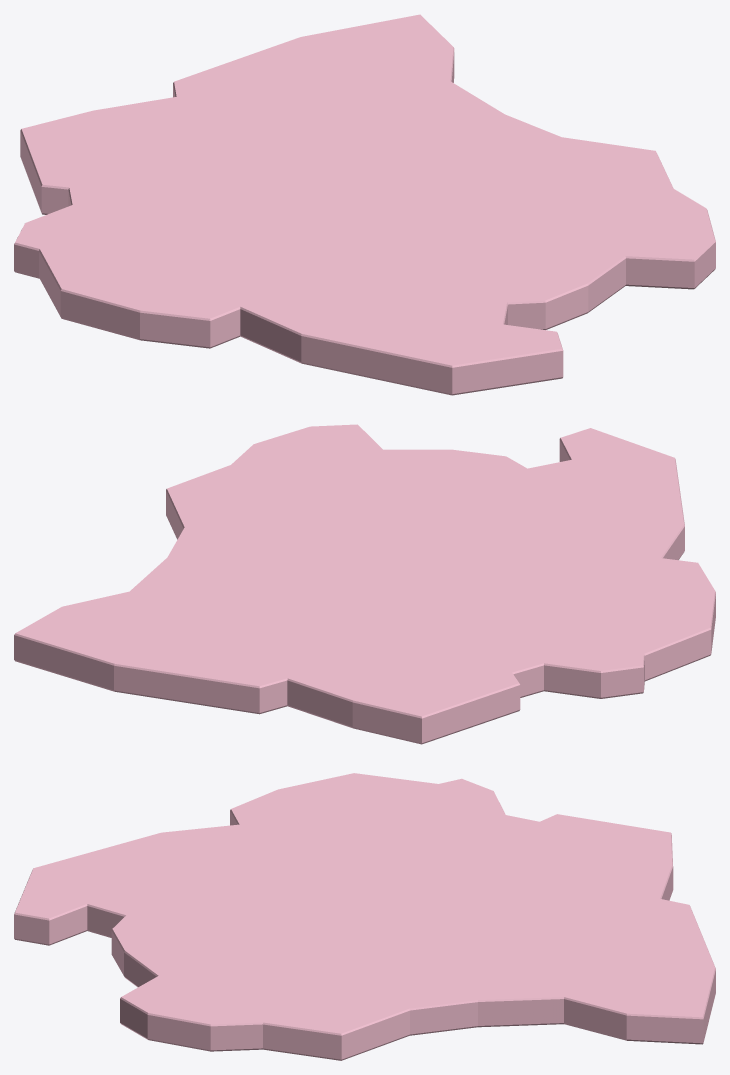
Rendered from SUR.glb.
The picture shows the model from 3 angles, top to bottom: view 1: azimuth 30°, elevation 25°; view 2: azimuth 150°, elevation 25°; view 3: azimuth 270°, elevation 25°; orthographic projection. The views are drawn at different scales.
Bounding box in the file's own units: 1.4 × 0.068 × 1.59.
